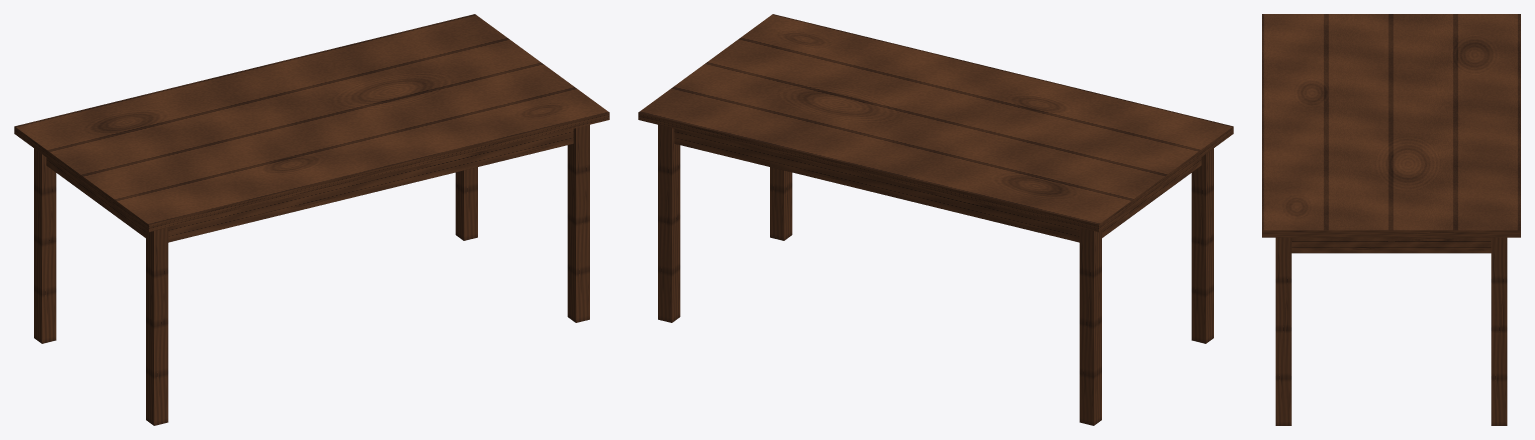
File: desk.obj
The picture shows the model from 3 angles, left to right: view 1: azimuth 30°, elevation 25°; view 2: azimuth 150°, elevation 25°; view 3: azimuth 270°, elevation 25°; orthographic projection. The views are drawn at different scales.
Parts seen in each view (by area): view 1: material_5; view 2: material_5; view 3: material_5.
Part boxes in pixels (x1,y1,x2,y2): material_5: (14,14,609,425); material_5: (638,14,1233,425); material_5: (1262,14,1520,425).
Bounding box in the file's own units: 57.09 × 24.8 × 28.86.
2 materials, 2 textured.
